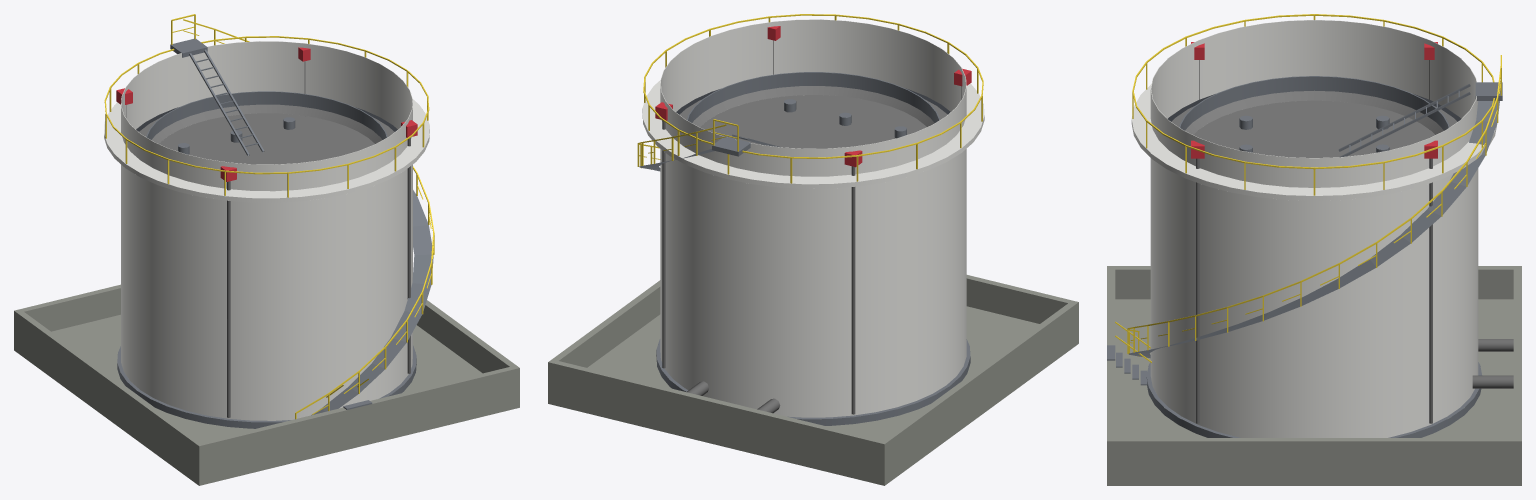
Rendered from mashup-tank-top-prebuilt_close.fbx.
3 renders of one model, left to right at view 1: azimuth 30°, elevation 25°; view 2: azimuth 150°, elevation 25°; view 3: azimuth 270°, elevation 25°, orthographic. The views are drawn at different scales.
Parts seen in each view (by area): view 1: a1018/0/mashup-tank-top-prebuilt_close; view 2: a1018/0/mashup-tank-top-prebuilt_close; view 3: a1018/0/mashup-tank-top-prebuilt_close.
Part boxes in pixels (x1,y1,x2,y2): a1018/0/mashup-tank-top-prebuilt_close: (14,14,519,485); a1018/0/mashup-tank-top-prebuilt_close: (548,14,1078,485); a1018/0/mashup-tank-top-prebuilt_close: (1107,14,1521,485).
Bounding box in the file's own units: 15.2 × 13.62 × 15.2.
